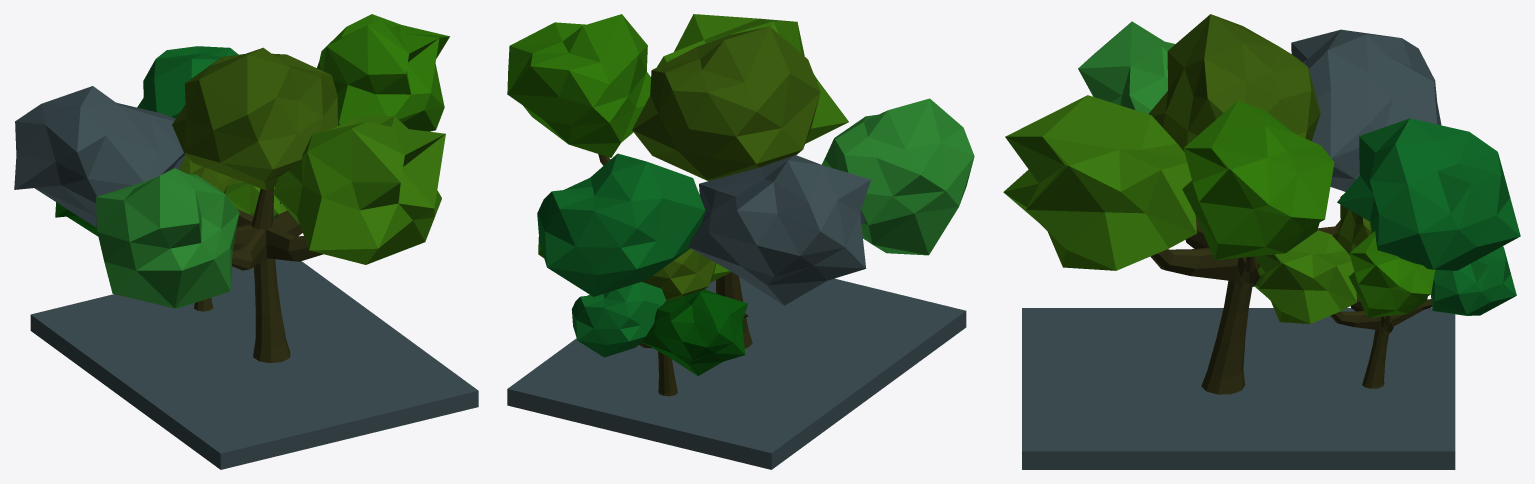
Rendered from trees.glb.
3 renders of one model, left to right at view 1: azimuth 30°, elevation 25°; view 2: azimuth 150°, elevation 25°; view 3: azimuth 270°, elevation 25°, orthographic. The views are drawn at different scales.
Parts seen in each view (by area): view 1: Cube, Icosphere.004, Icosphere, Icosphere.002, Icosphere.001, Icosphere.003, Cylinder, Icosphere.005, Icosphere.007, Icosphere.011; view 2: Cube, Icosphere, Icosphere.001, Icosphere.005, Icosphere.002, Icosphere.003, Icosphere.010, Icosphere.006, Icosphere.004, Icosphere.011, Cylinder, Cylinder.001; view 3: Cube, Icosphere.004, Icosphere.005, Icosphere.003, Icosphere, Icosphere.001, Icosphere.007, Cylinder, Icosphere.002, Icosphere.008, Icosphere.006, Cylinder.001 (+1 smaller).
Part boxes in pixels (box(x1,y1,x2,y2)): Cube: box(30, 259, 478, 469); Icosphere.004: box(273, 116, 445, 264); Icosphere: box(172, 47, 337, 190); Icosphere.002: box(96, 168, 239, 308); Icosphere.001: box(14, 86, 185, 227); Icosphere.003: box(317, 14, 449, 131); Cylinder: box(232, 187, 323, 363); Icosphere.005: box(137, 46, 238, 118); Icosphere.007: box(224, 181, 286, 217); Icosphere.011: box(179, 155, 240, 192); Cube: box(507, 276, 966, 469); Icosphere: box(632, 26, 820, 181); Icosphere.001: box(688, 155, 870, 305); Icosphere.005: box(537, 153, 705, 296); Icosphere.002: box(821, 98, 974, 255); Icosphere.003: box(507, 14, 650, 157); Icosphere.010: box(642, 289, 748, 375); Icosphere.006: box(571, 281, 666, 357); Icosphere.004: box(651, 14, 848, 143); Icosphere.011: box(642, 248, 716, 300); Cylinder: box(598, 154, 752, 348); Cylinder.001: box(639, 314, 748, 396); Cube: box(1022, 308, 1455, 469); Icosphere.004: box(1003, 95, 1196, 270); Icosphere.005: box(1337, 118, 1520, 271); Icosphere.003: box(1182, 100, 1334, 260); Icosphere: box(1148, 14, 1320, 151); Icosphere.001: box(1291, 29, 1441, 191); Icosphere.007: box(1254, 230, 1356, 323); Cylinder: box(1150, 216, 1340, 394); Icosphere.002: box(1078, 21, 1175, 113); Icosphere.008: box(1349, 231, 1434, 317); Icosphere.006: box(1431, 246, 1516, 315); Cylinder.001: box(1330, 293, 1431, 388).
Size of the model in its own units: 40.59 by 32.39 by 40.71.
